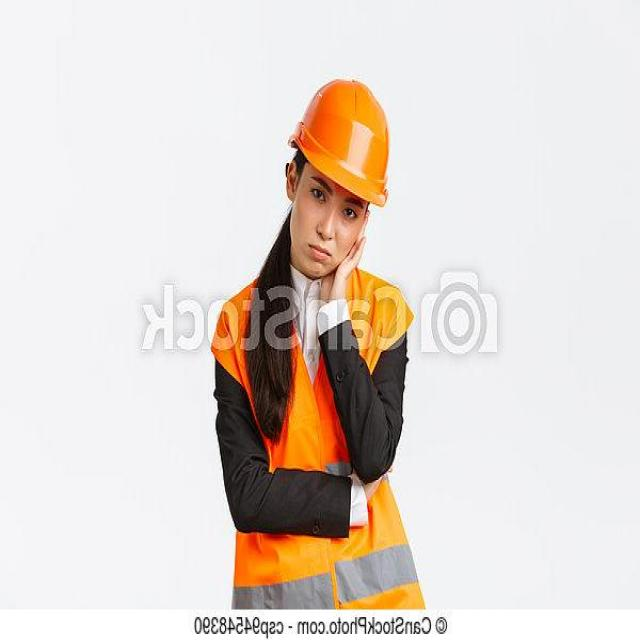Reflective-Jacket: (214, 266, 426, 610)
Safety-Helmet: (288, 73, 396, 206)
